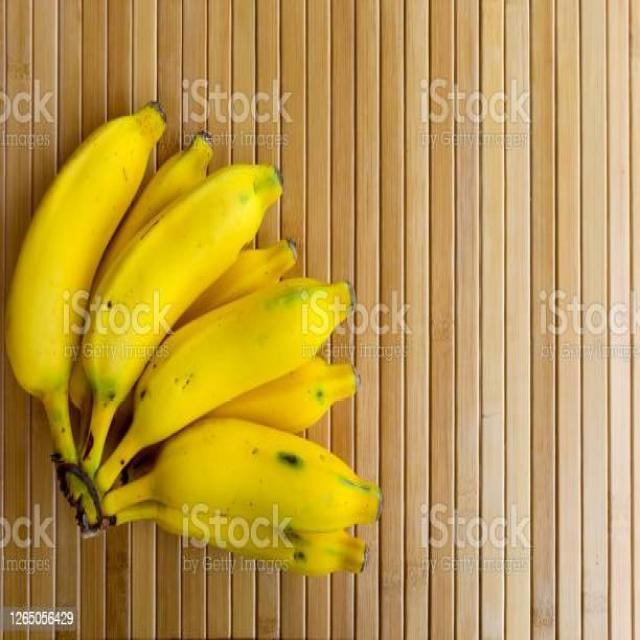banana: (3, 97, 389, 585)
